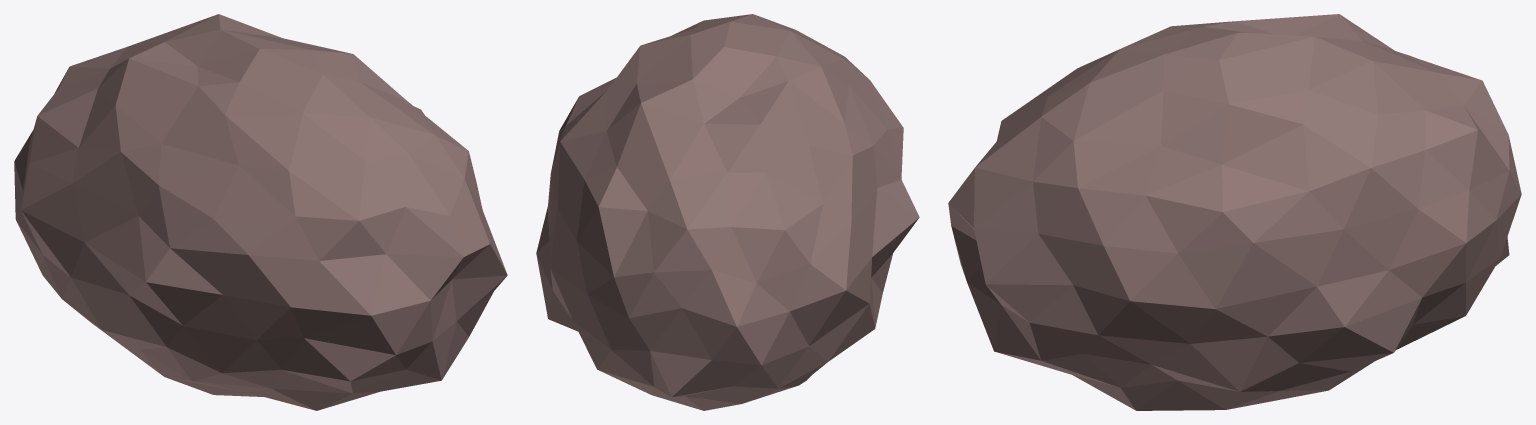
Rendered from Asteroid_2.fbx.
3 views of the same model, side by side, from view 1: azimuth 30°, elevation 25°; view 2: azimuth 150°, elevation 25°; view 3: azimuth 270°, elevation 25° (orthographic). The views are drawn at different scales.
Parts seen in each view (by area): view 1: Icosphere.024; view 2: Icosphere.024; view 3: Icosphere.024.
Part boxes in pixels (bbox=[...]): Icosphere.024: bbox=[14, 14, 507, 410]; Icosphere.024: bbox=[536, 14, 919, 410]; Icosphere.024: bbox=[948, 14, 1521, 410].
Bounding box in the file's own units: 219 × 198 × 288.
